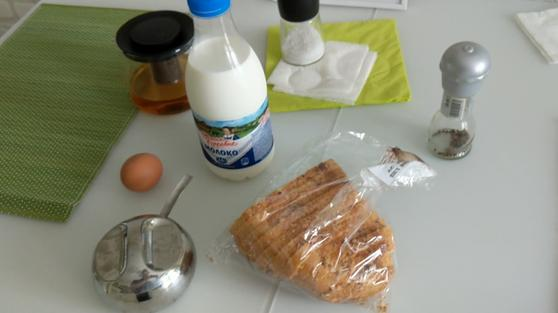egg: (122, 151, 164, 192)
milk: (177, 3, 281, 185)
white_bread: (231, 160, 398, 313)
